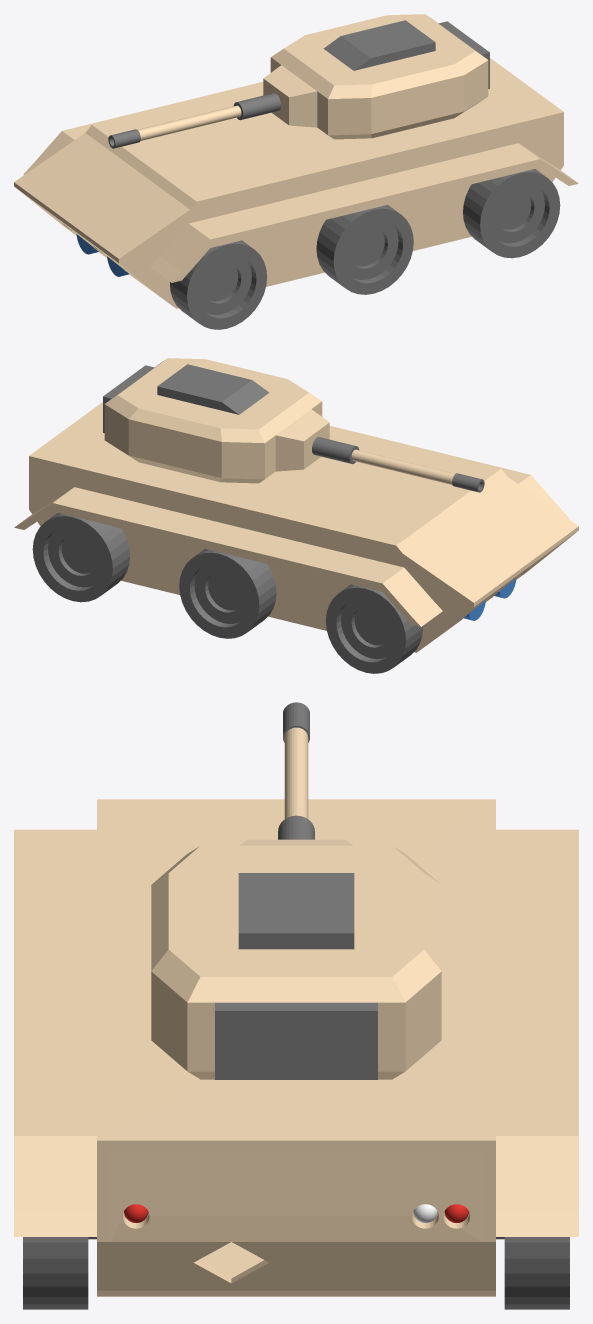
Rendered from Tank.glb.
3 views of the same model, one above another, from view 1: azimuth 30°, elevation 25°; view 2: azimuth 150°, elevation 25°; view 3: azimuth 270°, elevation 25° (orthographic). The views are drawn at different scales.
Visible parts, largest first — view 1: Cube.010, Cube.005, Cube.011, Cylinder.007, Cylinder, Cylinder.008, Cube.002, Cube.009, Cylinder.005; view 2: Cube.010, Cube.009, Cube.011, Cylinder.002, Cylinder.010, Cylinder.009, Cube.002, Cube.005, Cylinder.005; view 3: Cube.010, Cube.011, Cube.002, Cube.005, Cube.009, Cylinder.010, Cylinder.
Boxes of the visible parts, x1,y1,x2,y2 form: Cube.010: (14, 58, 563, 258); Cube.005: (125, 120, 578, 299); Cube.011: (108, 14, 489, 148); Cylinder.007: (316, 205, 413, 294); Cylinder: (463, 169, 560, 258); Cylinder.008: (170, 240, 266, 329); Cube.002: (14, 118, 563, 308); Cube.009: (23, 82, 263, 174); Cylinder.005: (76, 234, 129, 276); Cube.010: (29, 402, 578, 602); Cube.009: (14, 464, 467, 643); Cube.011: (103, 358, 484, 492); Cylinder.002: (179, 549, 276, 638); Cylinder.010: (32, 513, 129, 602); Cylinder.009: (326, 584, 422, 673); Cube.002: (29, 462, 578, 652); Cube.005: (329, 426, 569, 518); Cylinder.005: (463, 578, 516, 620); Cube.010: (97, 799, 495, 1152); Cube.011: (151, 702, 441, 1079); Cube.002: (97, 1152, 495, 1296); Cube.005: (14, 829, 96, 1236); Cube.009: (496, 829, 578, 1236); Cylinder.010: (496, 1237, 569, 1309); Cylinder: (23, 1237, 96, 1309).
Size of the model in its own units: 219 by 84.84 by 126.
